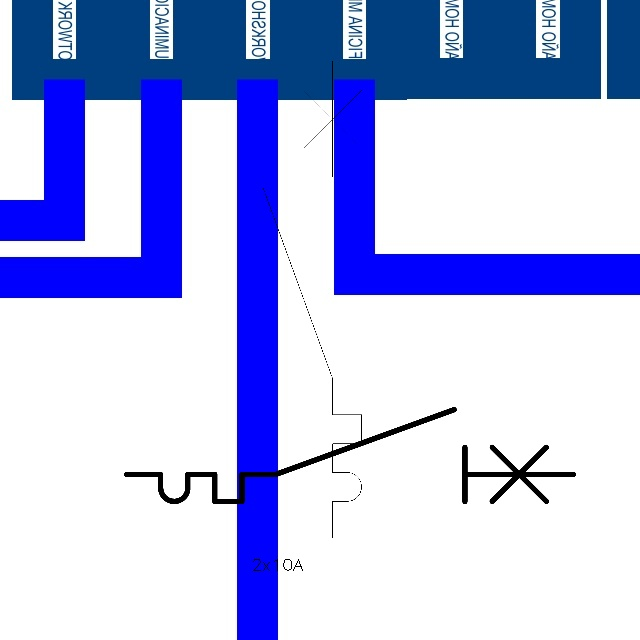interruptor_termomagnetico: (251, 49, 374, 550), (115, 398, 585, 513)
